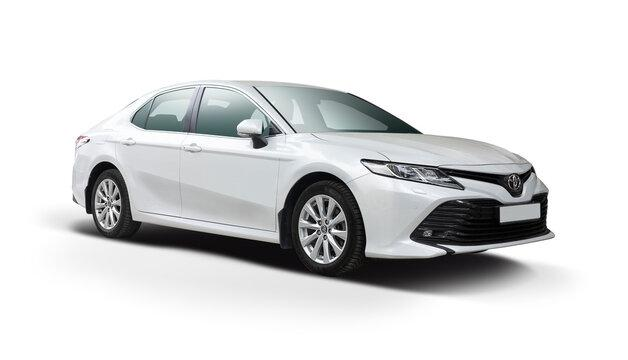Sedan: (47, 60, 567, 293)
